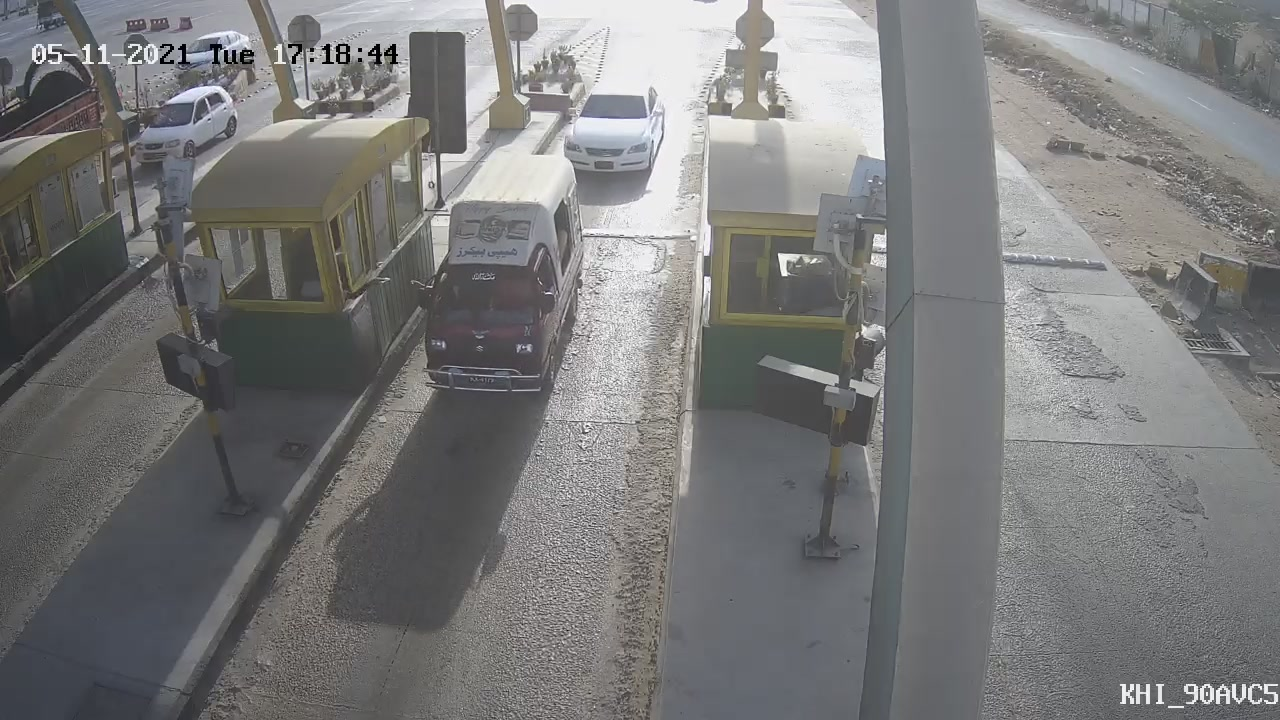F1: (410, 164, 609, 409), (548, 65, 676, 196)
